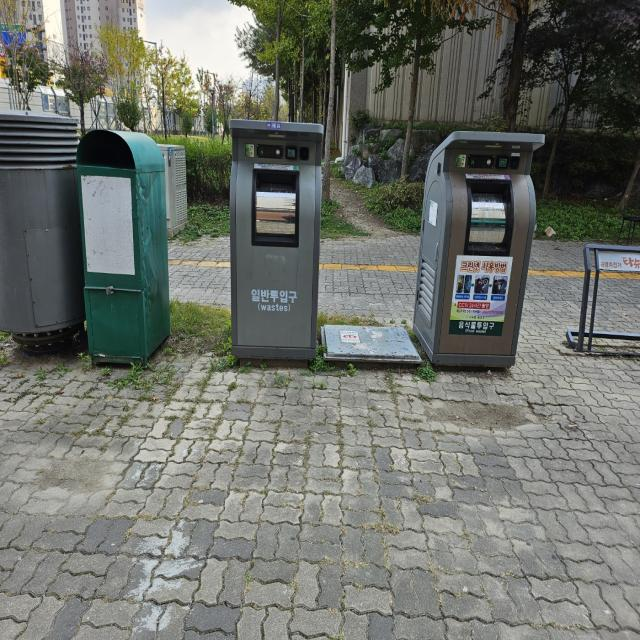CleanNet: (409, 117, 541, 378), (222, 106, 329, 380)
